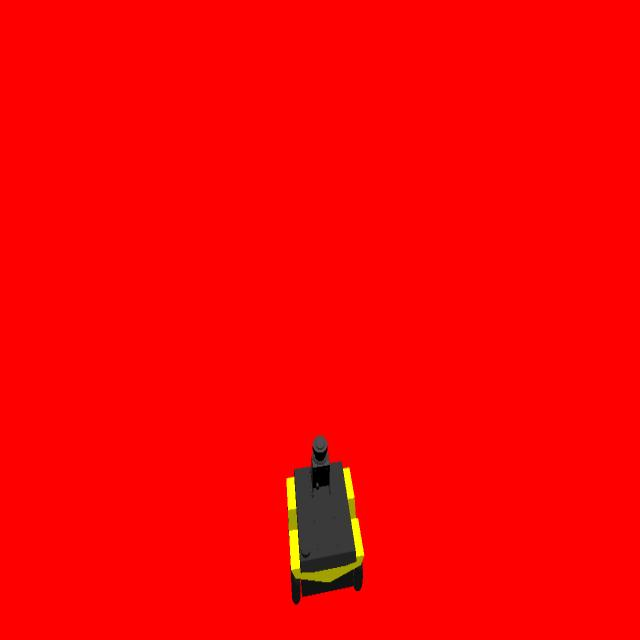jackal: (284, 432, 364, 604)
